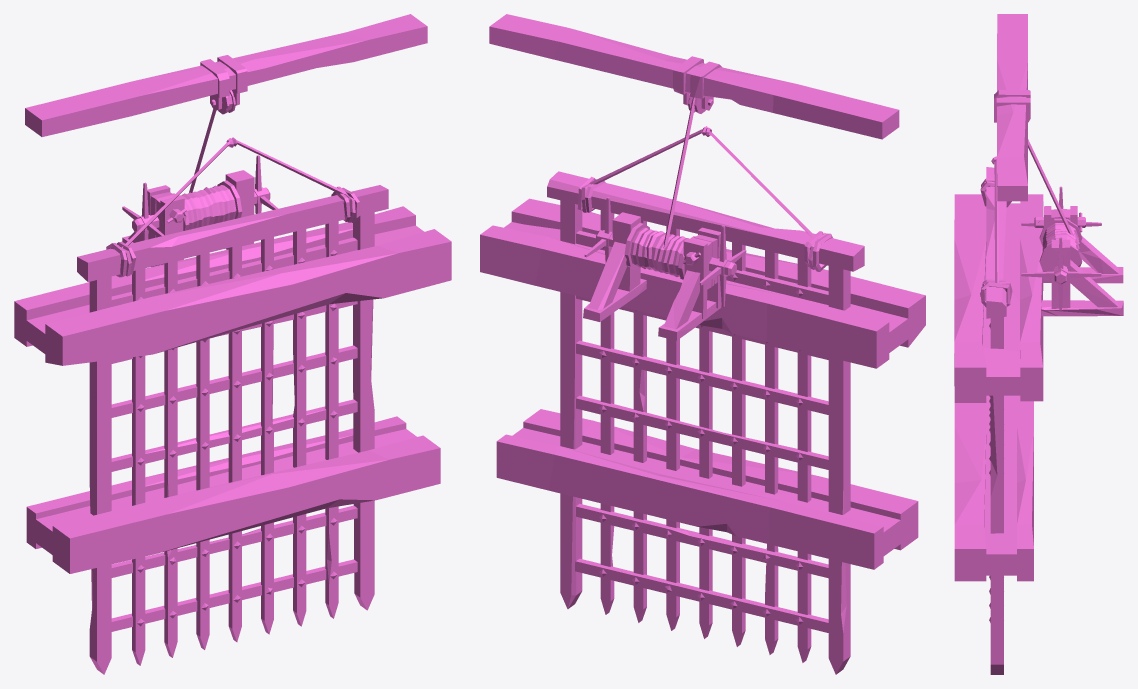
The model's file is SM_Gate_Mechanism_Fantasy.fbx.
3 views of the same model, side by side, from view 1: azimuth 30°, elevation 25°; view 2: azimuth 150°, elevation 25°; view 3: azimuth 270°, elevation 25° (orthographic). The views are drawn at different scales.
Visible parts, largest first — view 1: SM_Gate_Mechanism_Fantasy_Base, SM_Gate_Middle_Walkthrough_Fantasy_Gate, SM_Gate_Middle_Walkthrough_Fantasy_Winch_Wheel, SM_Gate_Middle_Walkthrough_Fantasy_Winch; view 2: SM_Gate_Mechanism_Fantasy_Base, SM_Gate_Middle_Walkthrough_Fantasy_Gate, SM_Gate_Middle_Walkthrough_Fantasy_Winch, SM_Gate_Middle_Walkthrough_Fantasy_Winch_Wheel; view 3: SM_Gate_Mechanism_Fantasy_Base, SM_Gate_Middle_Walkthrough_Fantasy_Gate, SM_Gate_Middle_Walkthrough_Fantasy_Winch, SM_Gate_Middle_Walkthrough_Fantasy_Winch_Wheel.
Part boxes in pixels (box(x1,y1,x2,y2)): SM_Gate_Mechanism_Fantasy_Base: box(14, 14, 451, 573); SM_Gate_Middle_Walkthrough_Fantasy_Gate: box(77, 137, 388, 674); SM_Gate_Middle_Walkthrough_Fantasy_Winch_Wheel: box(122, 155, 278, 240); SM_Gate_Middle_Walkthrough_Fantasy_Winch: box(122, 170, 254, 266); SM_Gate_Mechanism_Fantasy_Base: box(480, 14, 925, 569); SM_Gate_Middle_Walkthrough_Fantasy_Gate: box(547, 126, 864, 674); SM_Gate_Middle_Walkthrough_Fantasy_Winch: box(583, 212, 721, 340); SM_Gate_Middle_Walkthrough_Fantasy_Winch_Wheel: box(584, 197, 746, 307); SM_Gate_Mechanism_Fantasy_Base: box(954, 14, 1074, 581); SM_Gate_Middle_Walkthrough_Fantasy_Gate: box(980, 156, 1012, 674); SM_Gate_Middle_Walkthrough_Fantasy_Winch: box(1034, 206, 1123, 316); SM_Gate_Middle_Walkthrough_Fantasy_Winch_Wheel: box(1021, 186, 1101, 310).
Size of the model in its own units: 6.04 by 8.43 by 2.49.
